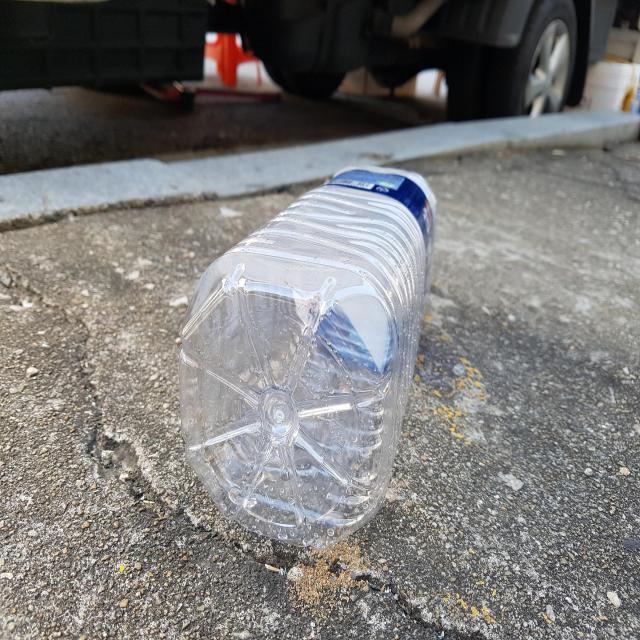plastic: (179, 165, 436, 547)
